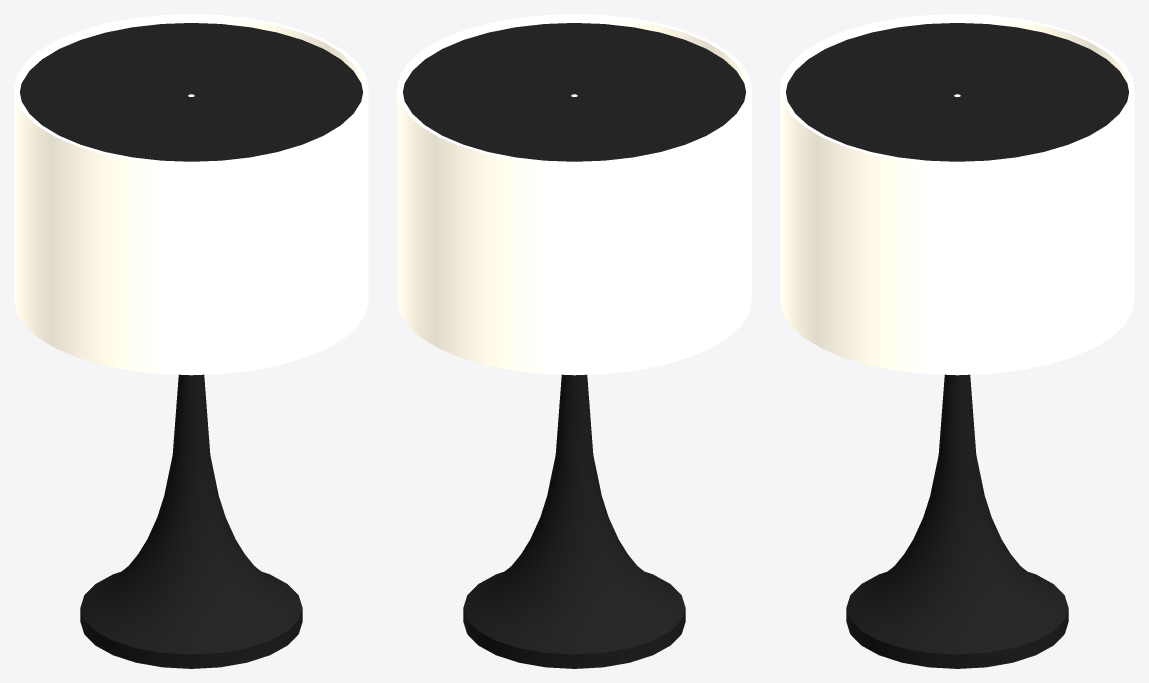
Rendered from lamp.fbx.
3 views of the same model, side by side, from view 1: azimuth 30°, elevation 25°; view 2: azimuth 150°, elevation 25°; view 3: azimuth 270°, elevation 25° (orthographic).
Parts seen in each view (by area): view 1: Tube, Lathe_1; view 2: Tube, Lathe_1; view 3: Tube, Lathe_1.
Boxes of the visible parts, <box> form: Tube: <box>14,14,368,375</box>; Lathe_1: <box>80,374,302,668</box>; Tube: <box>397,14,751,375</box>; Lathe_1: <box>463,374,685,668</box>; Tube: <box>780,14,1134,375</box>; Lathe_1: <box>846,374,1068,668</box>.
Bounding box in the file's own units: 301 × 499 × 301.
